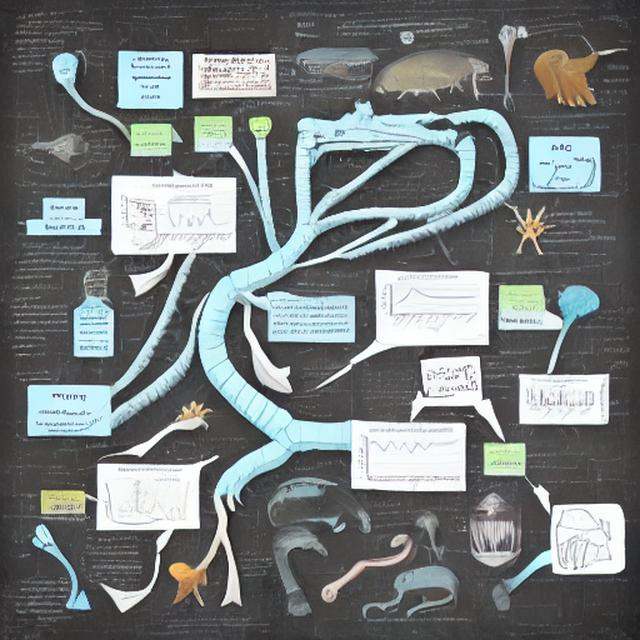Graph: (355, 425, 463, 488), (378, 273, 480, 333), (147, 200, 232, 250), (523, 378, 597, 422), (138, 477, 196, 521), (203, 17, 267, 55)
